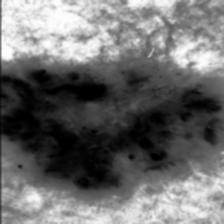Potentially Malignant Skin Tumors: (0, 61, 224, 193)
